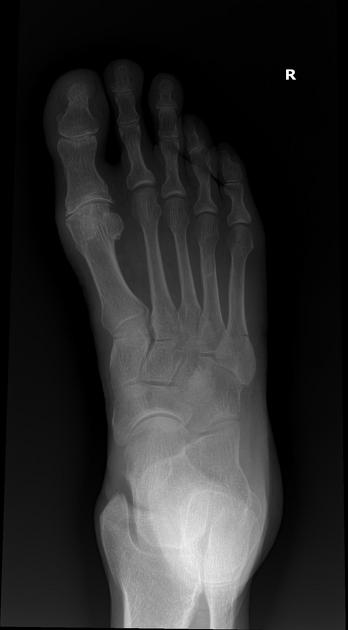fractured: (235, 328, 250, 340)
